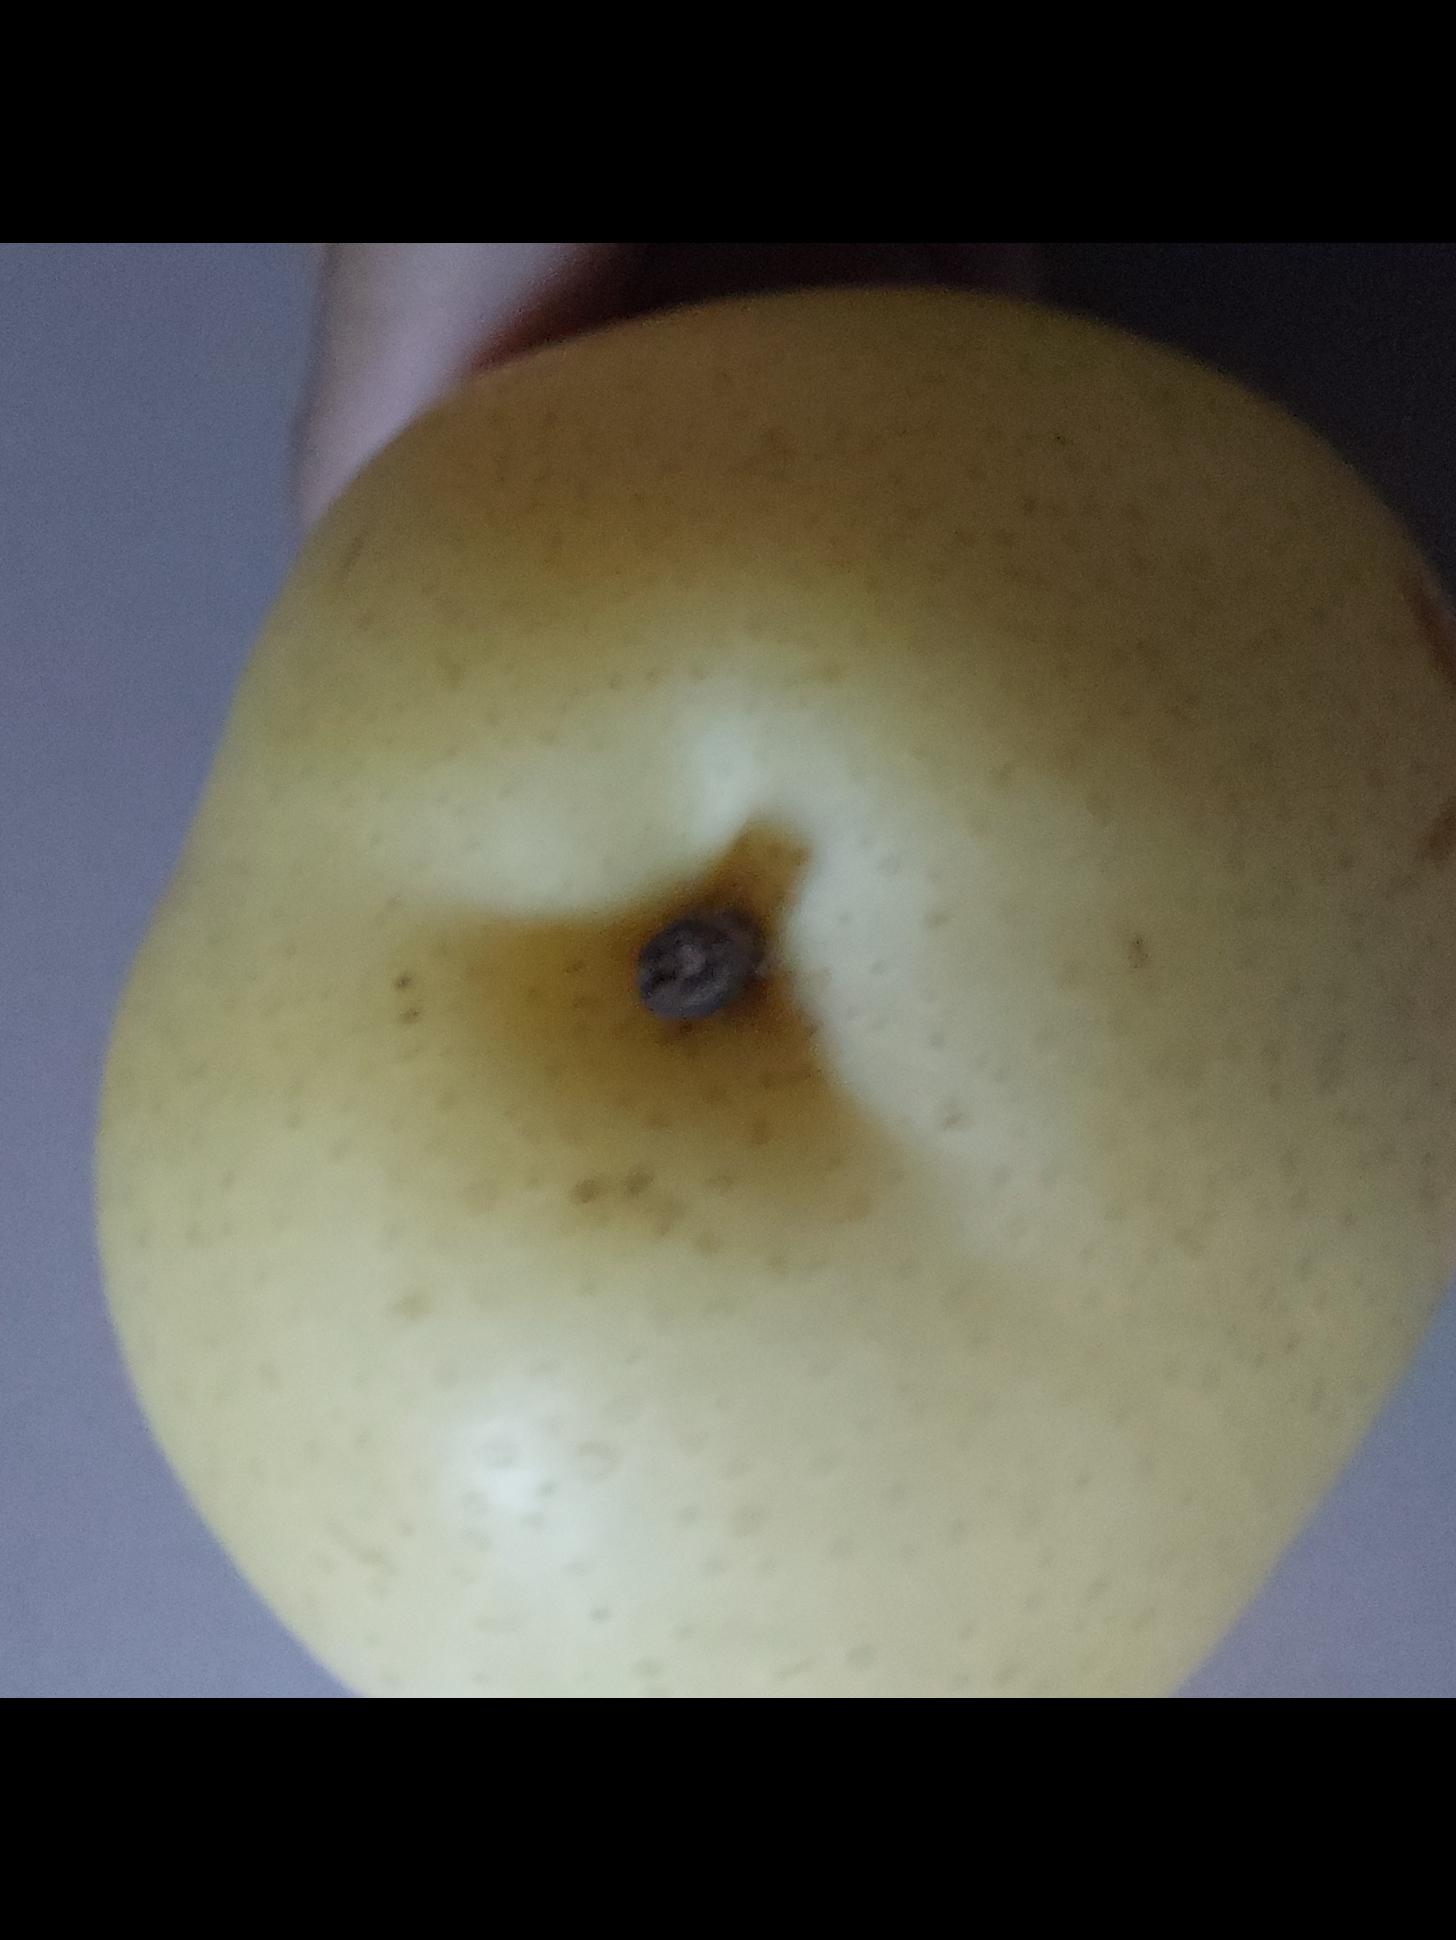Good Pear: (99, 292, 1456, 1698)
